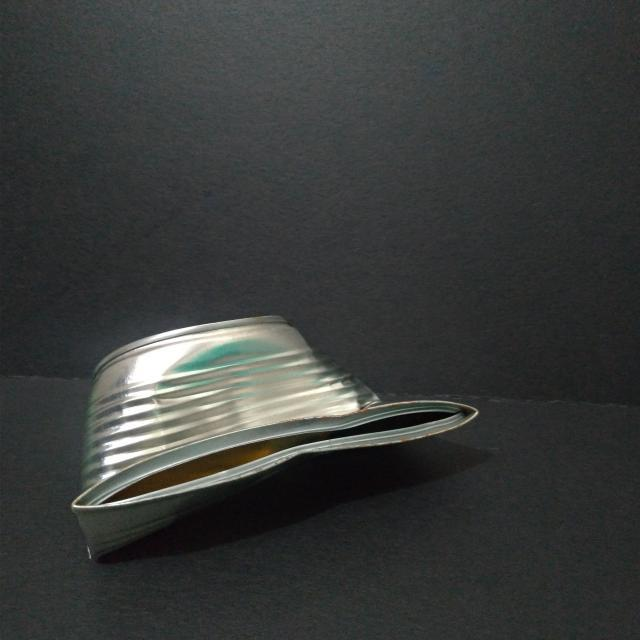metal-can: (70, 310, 482, 570)
